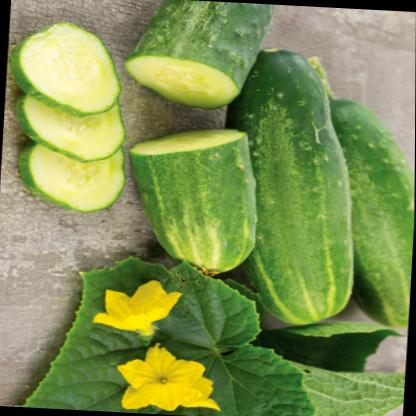--: (219, 34, 370, 330), (119, 126, 264, 286), (124, 0, 273, 108), (6, 19, 140, 119)
